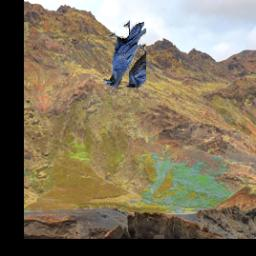Crow: (102, 21, 146, 89)
